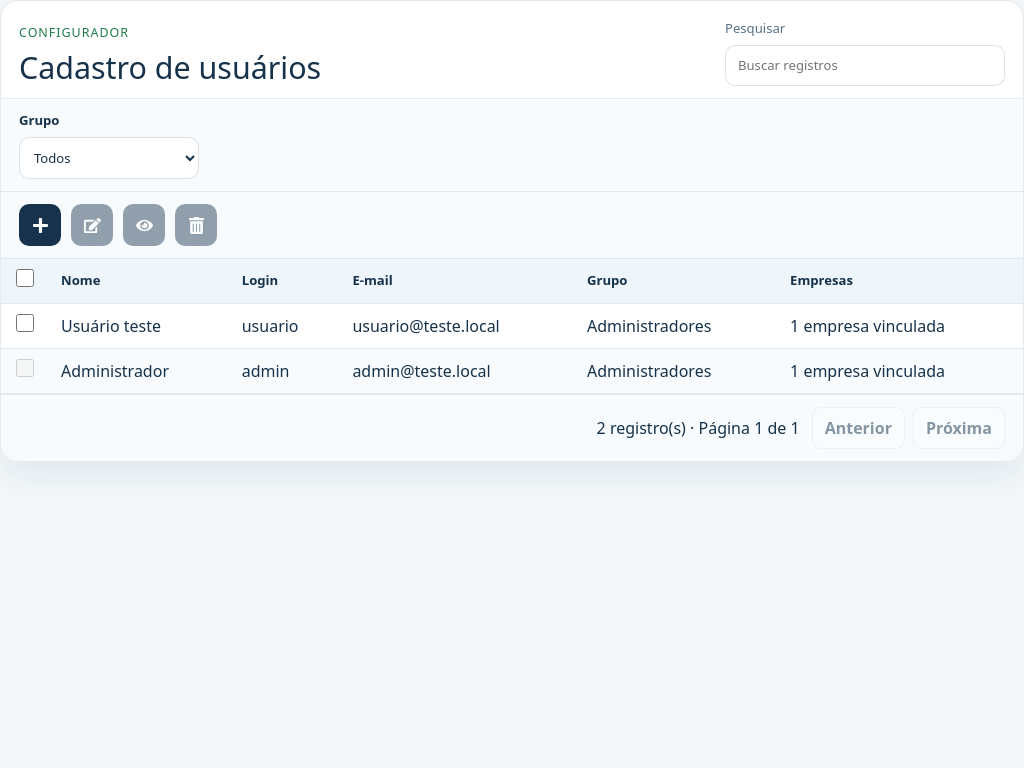
Test: CRUDs do Configurador › mantém usuários realmente somente leitura ao visualizar
The width and height of the screenshot is (1024, 768).
Click the cell "usuario@teste.local": x=458, y=326 [340, 303, 575, 348]
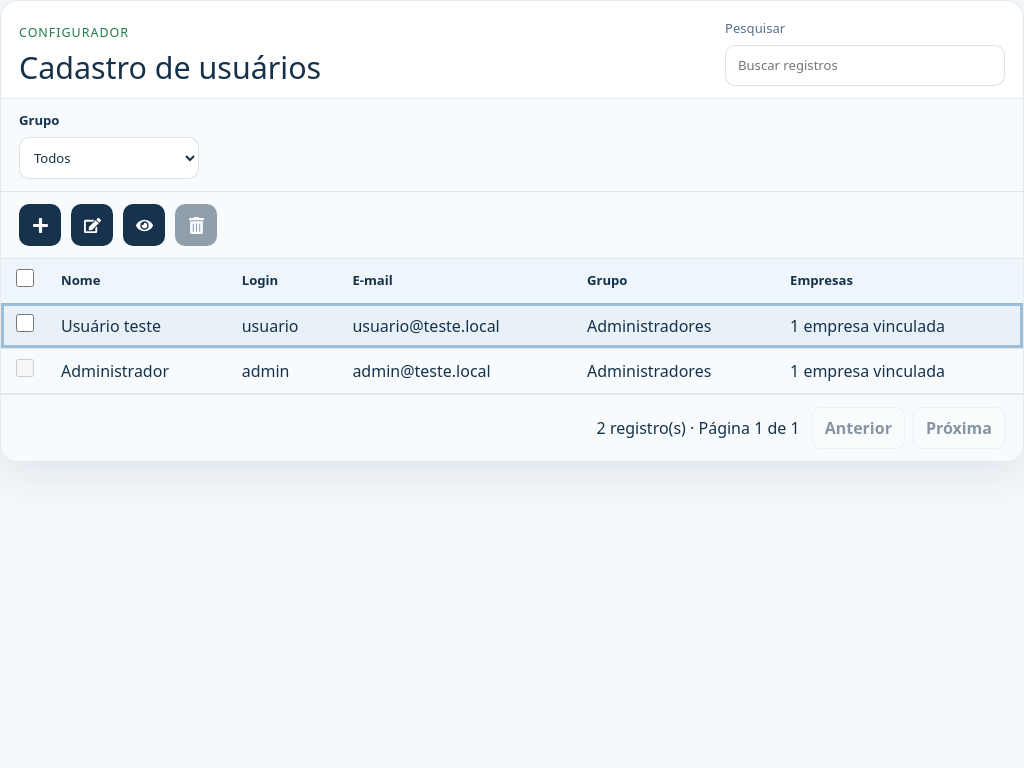
Click the button named "Visualizar": x=144, y=225 [123, 204, 165, 246]
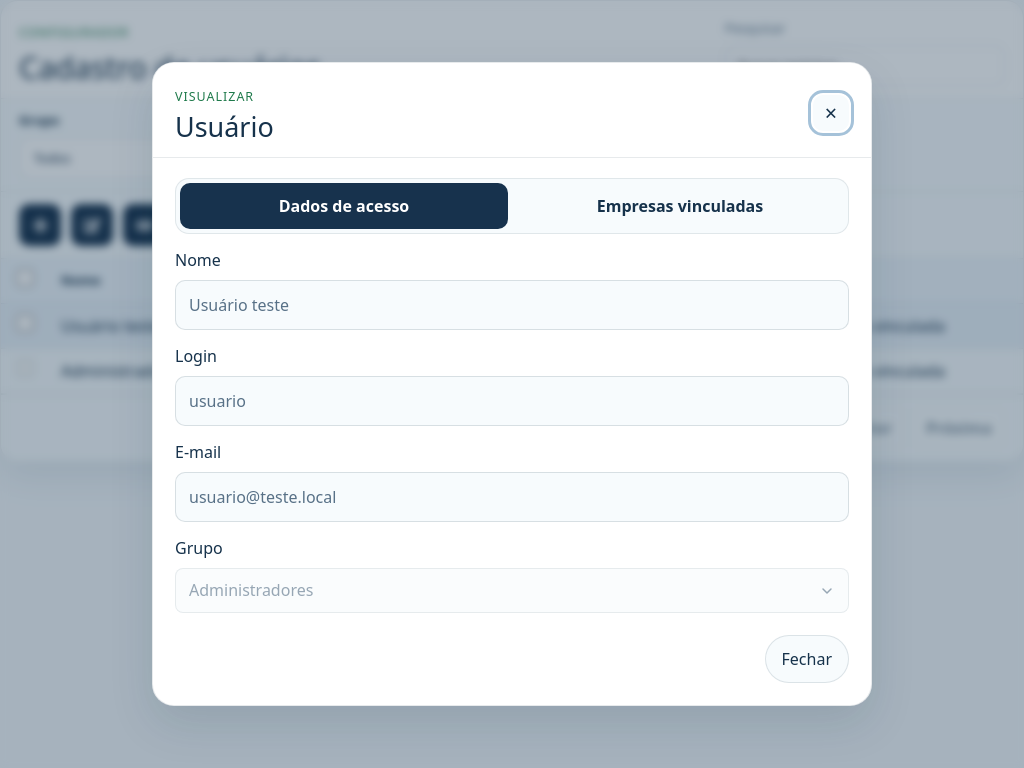
Now the field labelled "Nome" is disabled, box [175, 280, 849, 330]
